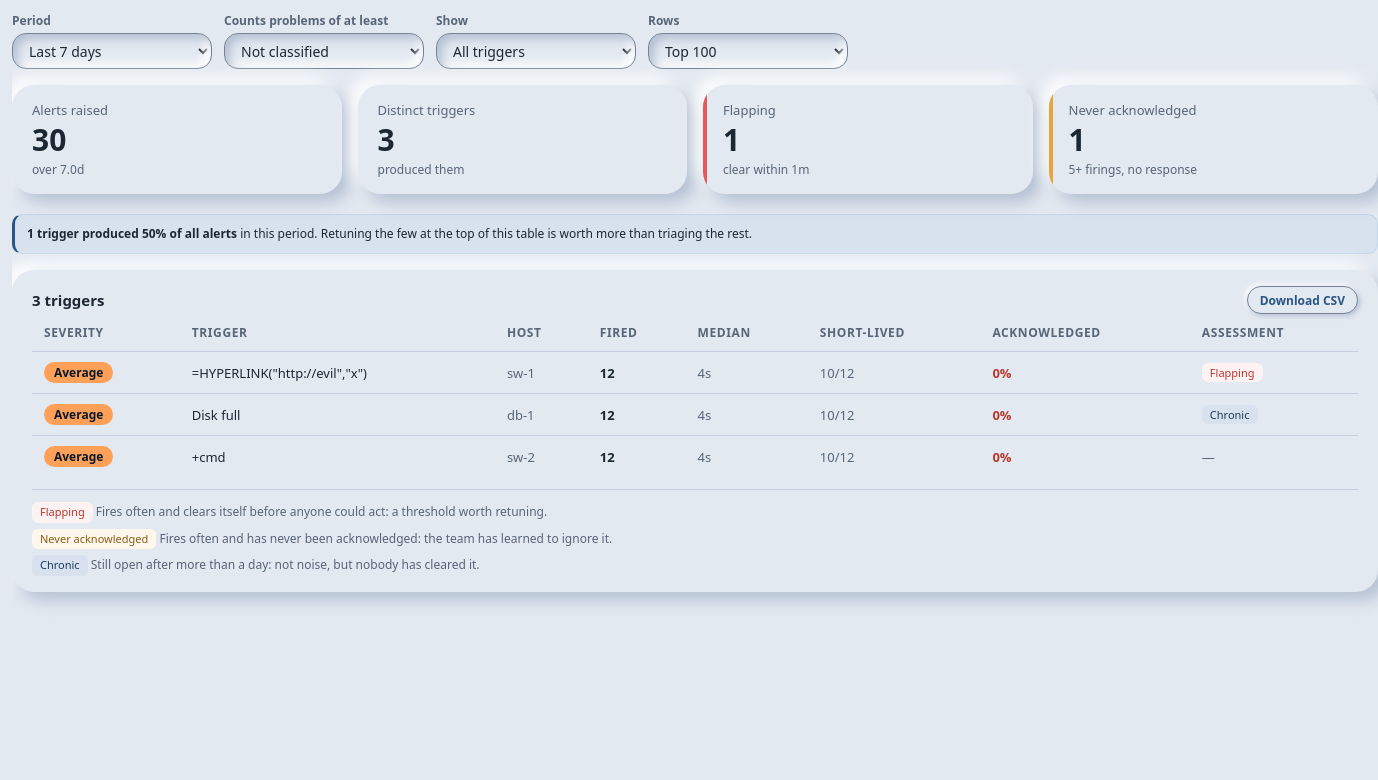
Test: the Alert noise CSV (FR-05) › has nothing to download when the filter shows no rows
Expected: the text "Disk full" is shown, [180, 394, 495, 436]
Select "Never acknowledged" in the dropdown labelled "Show" at (536, 51), box [436, 33, 636, 69]
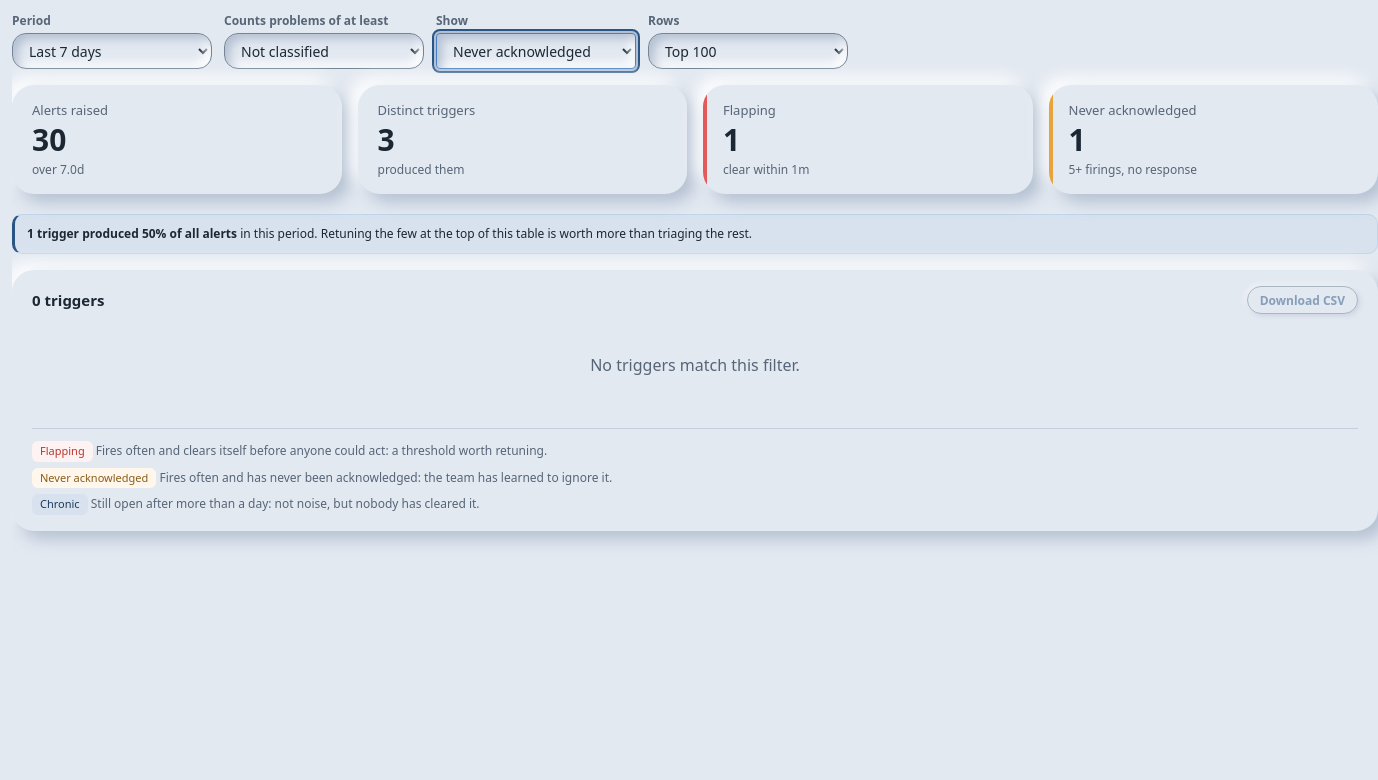
Expected: the button "Download CSV" is disabled, [1247, 286, 1358, 314]
